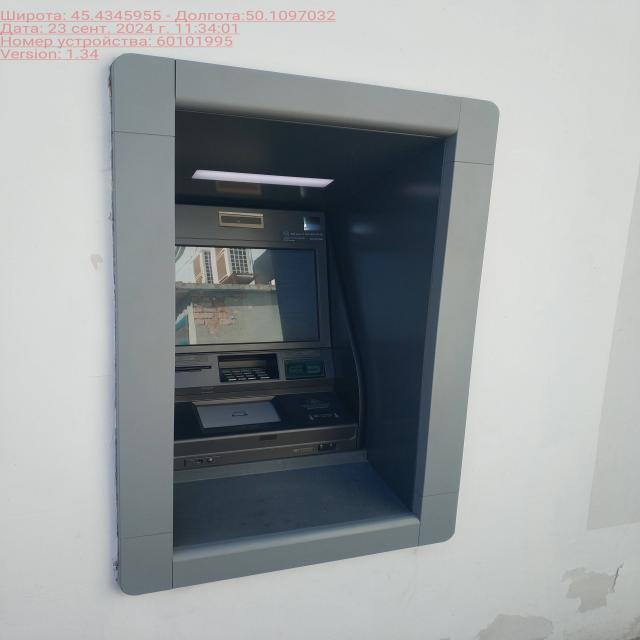bank: (134, 70, 450, 550)
